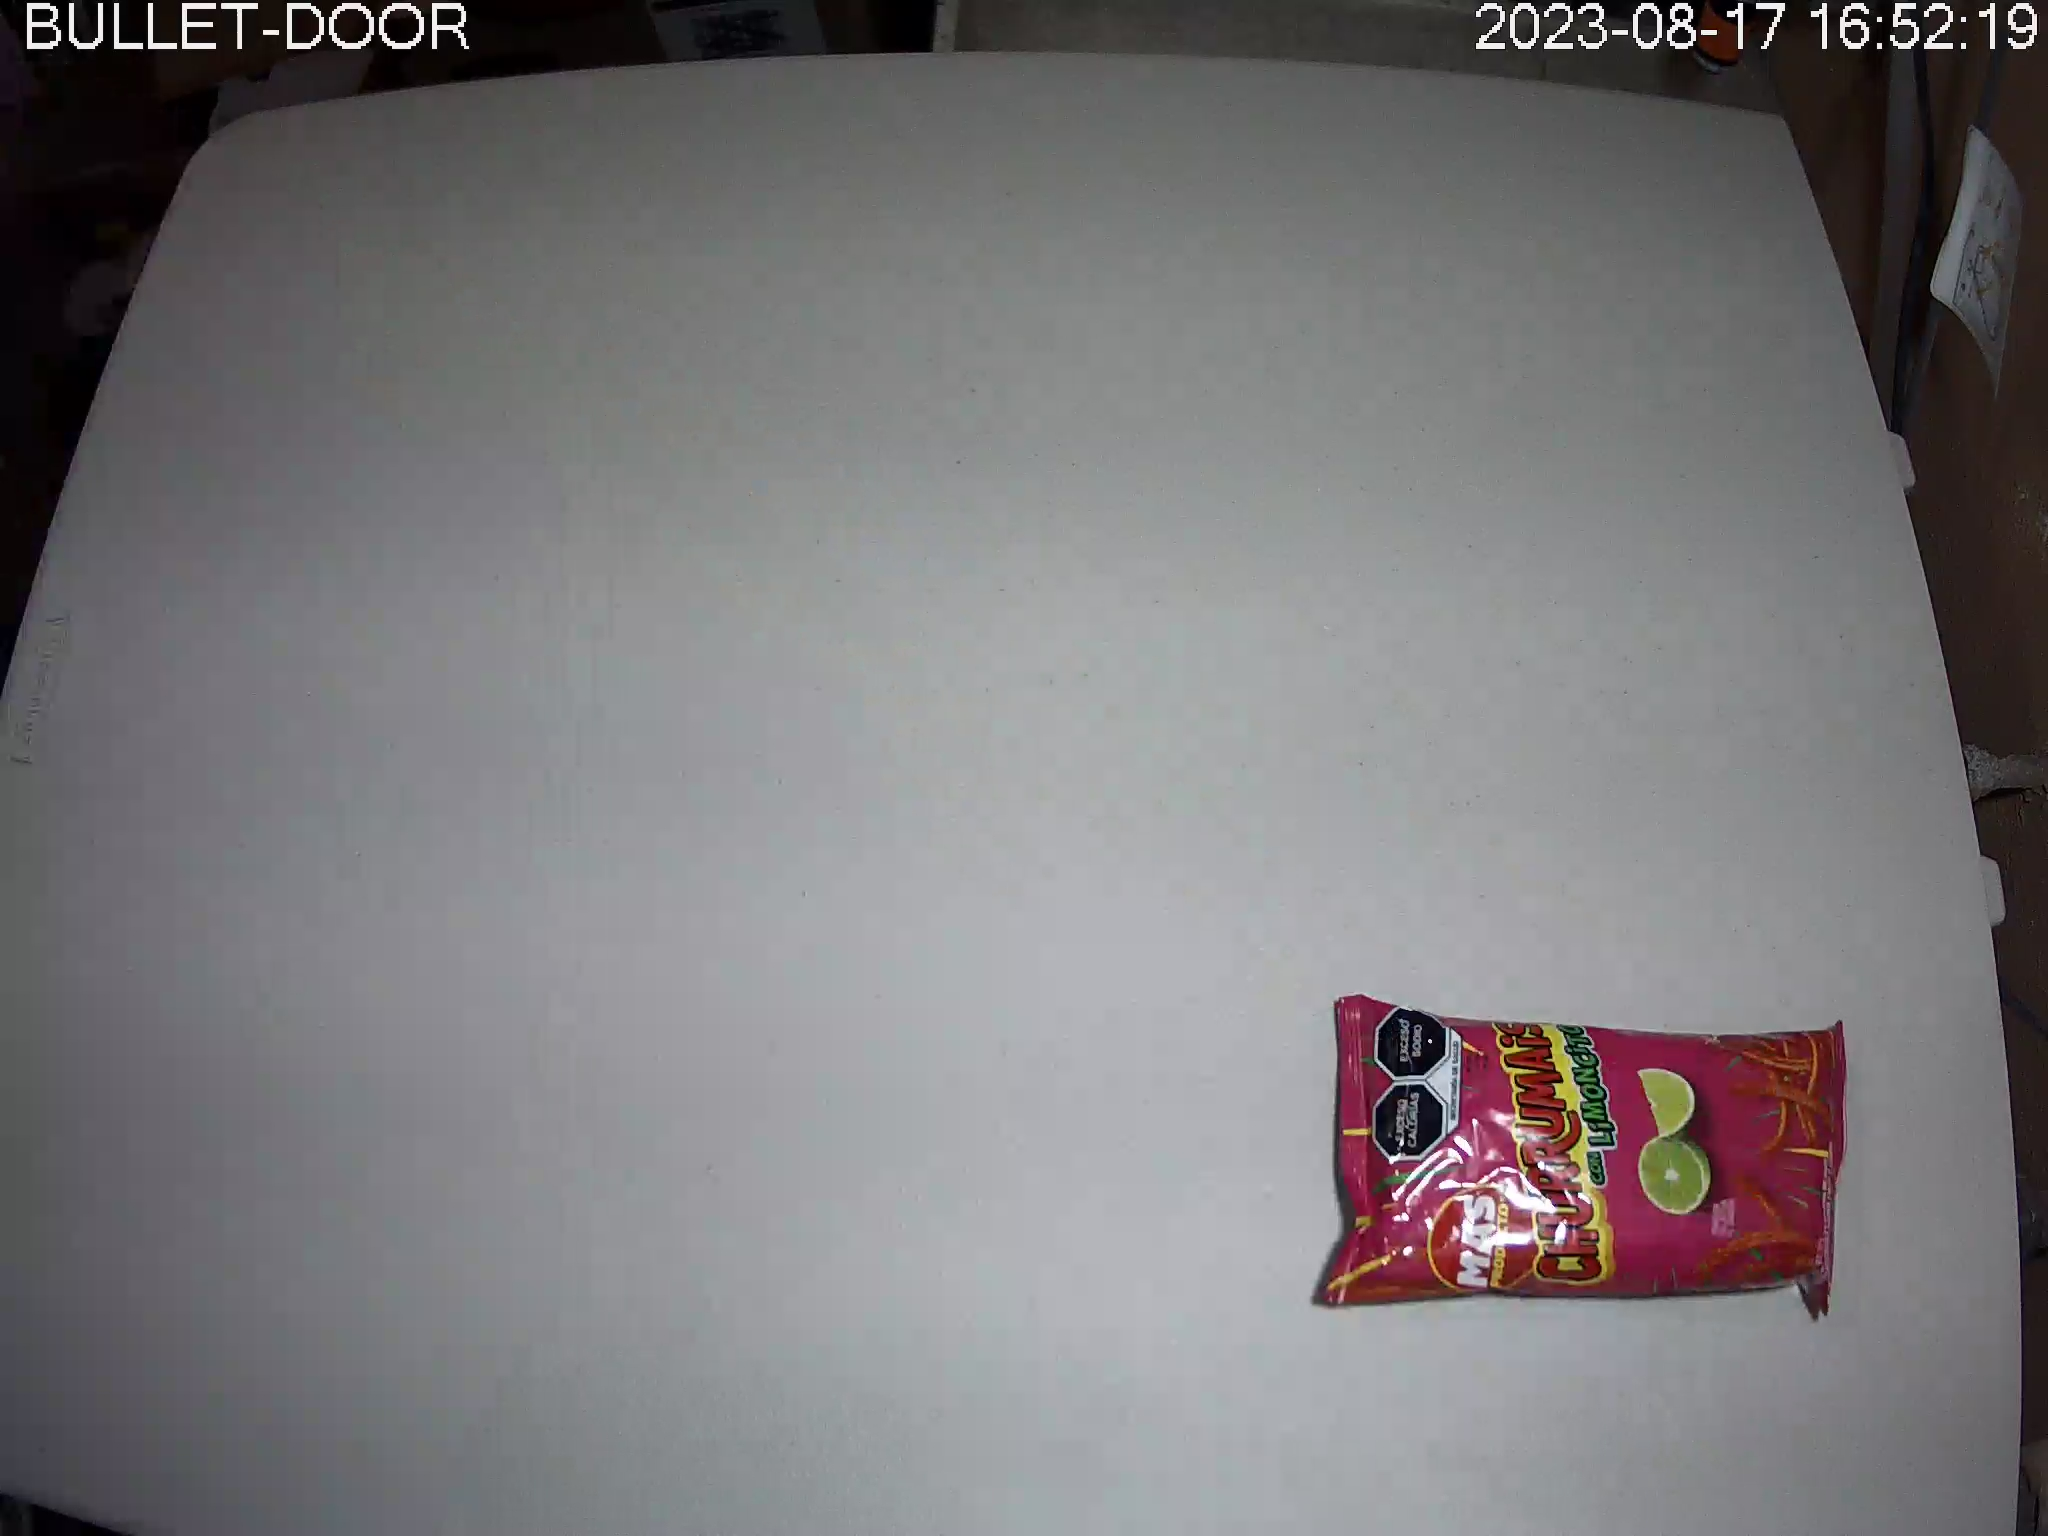Churrumais_70_F: (1321, 995, 1850, 1318)
